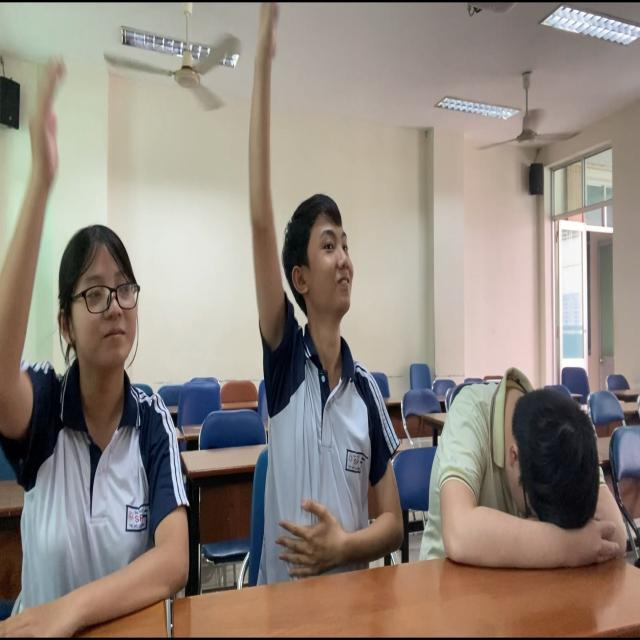raise_hand: (2, 44, 160, 640), (250, 1, 384, 579)
sleep: (415, 366, 636, 591)
